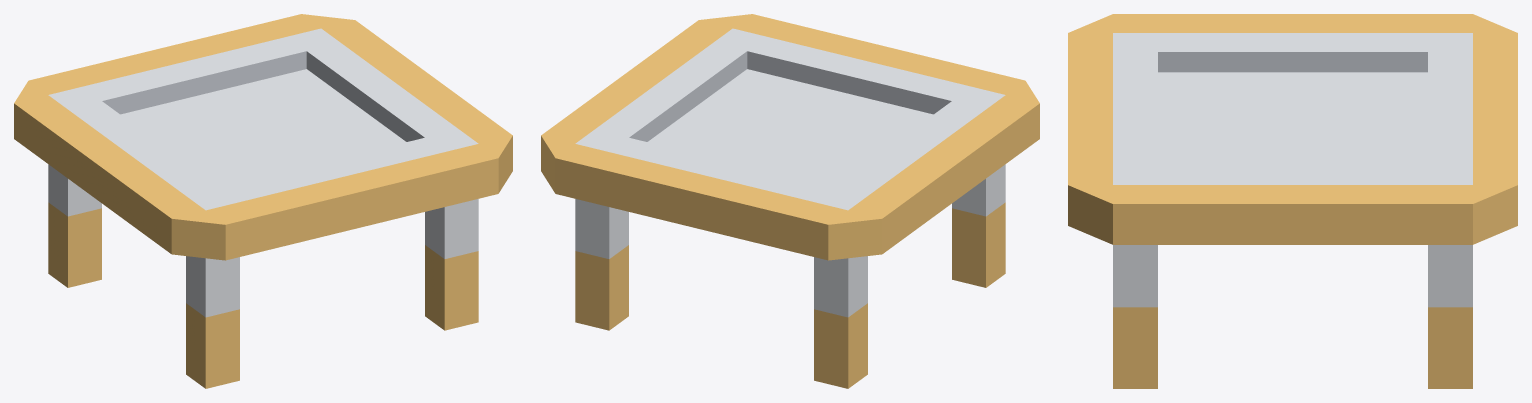
Rendered from space_platform_low.glb.
The picture shows the model from 3 angles, left to right: view 1: azimuth 30°, elevation 25°; view 2: azimuth 150°, elevation 25°; view 3: azimuth 270°, elevation 25°; orthographic projection. The views are drawn at different scales.
Visible parts, largest first — view 1: platform_low; view 2: platform_low; view 3: platform_low.
Boxes of the visible parts, box(x1,y1,x2,y2) form: platform_low: box(14, 14, 512, 388); platform_low: box(541, 14, 1039, 388); platform_low: box(1068, 14, 1517, 388).
Size of the model in its own units: 1 by 0.5 by 1.
